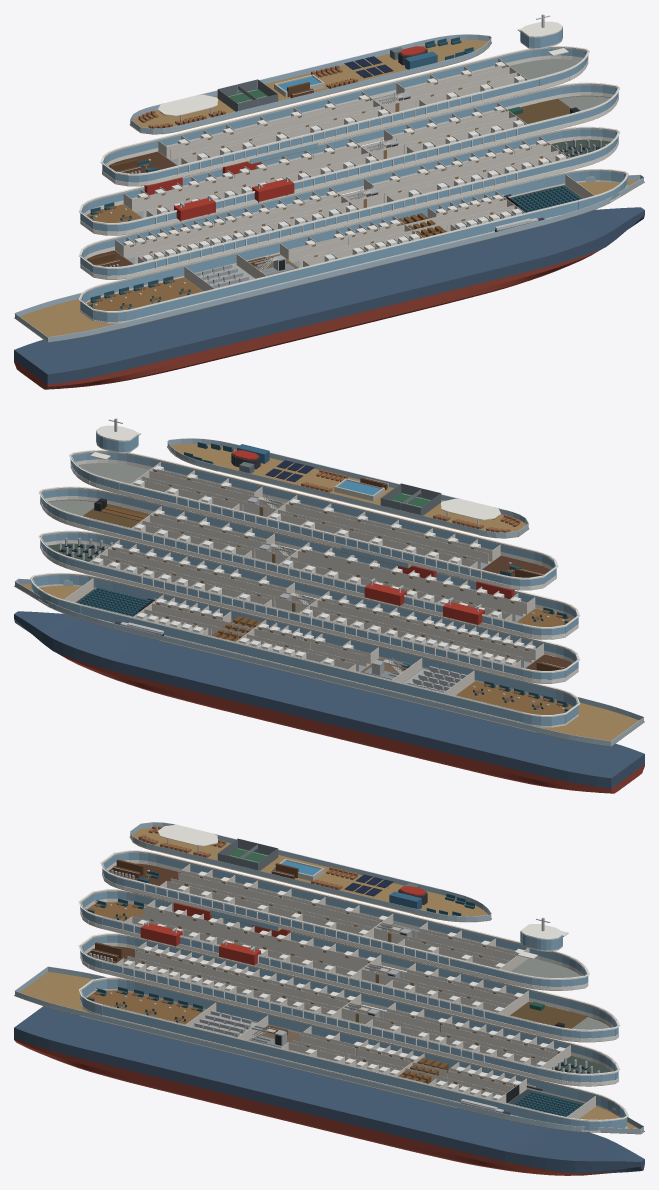
Rendered from vessel_exploded.glb.
3 views of the same model, one above another, from view 1: azimuth 30°, elevation 25°; view 2: azimuth 150°, elevation 25°; view 3: azimuth 330°, elevation 25° (orthographic).
Parts seen in each view (by area): view 1: vessel_exploded (×23); view 2: vessel_exploded (×22); view 3: vessel_exploded (×23).
Part boxes in pixels (x1,y1,x2,y2): vessel_exploded (×23): [14, 14, 644, 389]; vessel_exploded (×22): [14, 418, 644, 793]; vessel_exploded (×23): [14, 822, 644, 1175].
Size of the model in its own units: 141 by 54.42 by 16.8.
